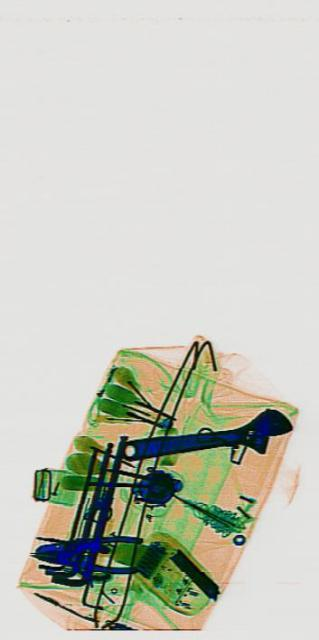Pliers: (35, 530, 141, 574)
Wrench: (120, 402, 291, 474)
